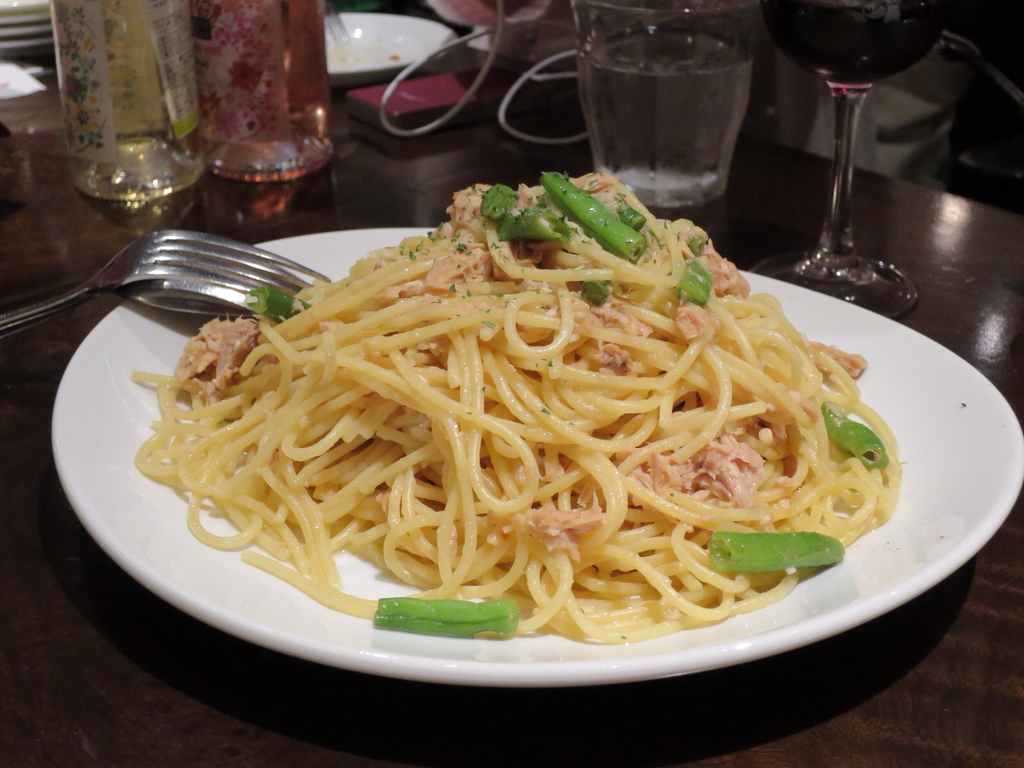pasta: (134, 169, 898, 639)
